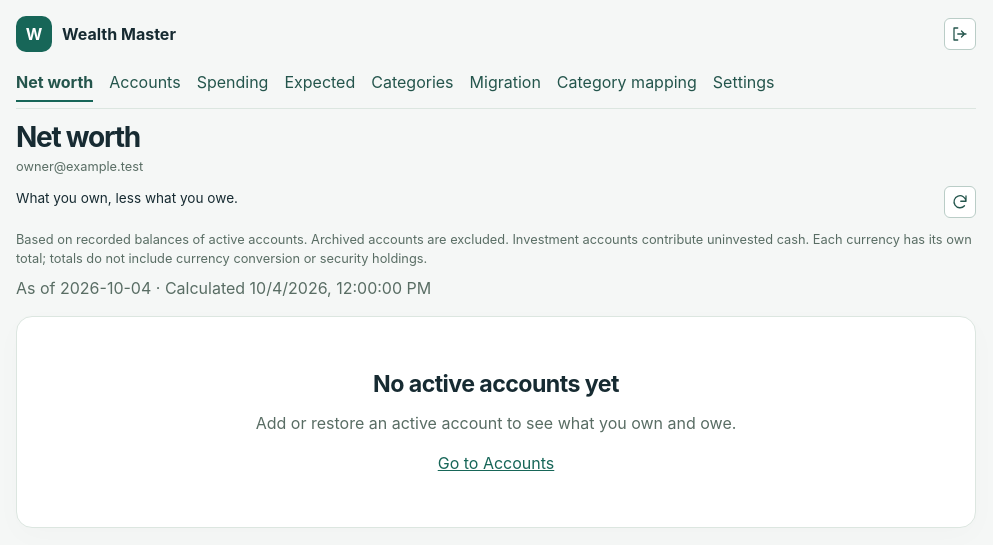
Test: defaults a restored session to net worth and reloads on re-entry
Expected: the heading "Net worth" is shown, [16, 120, 140, 154]
Expected: the heading "No active accounts yet" is shown, [373, 370, 619, 398]
Click the link "Accounts" at [145, 82], box [109, 72, 181, 92]
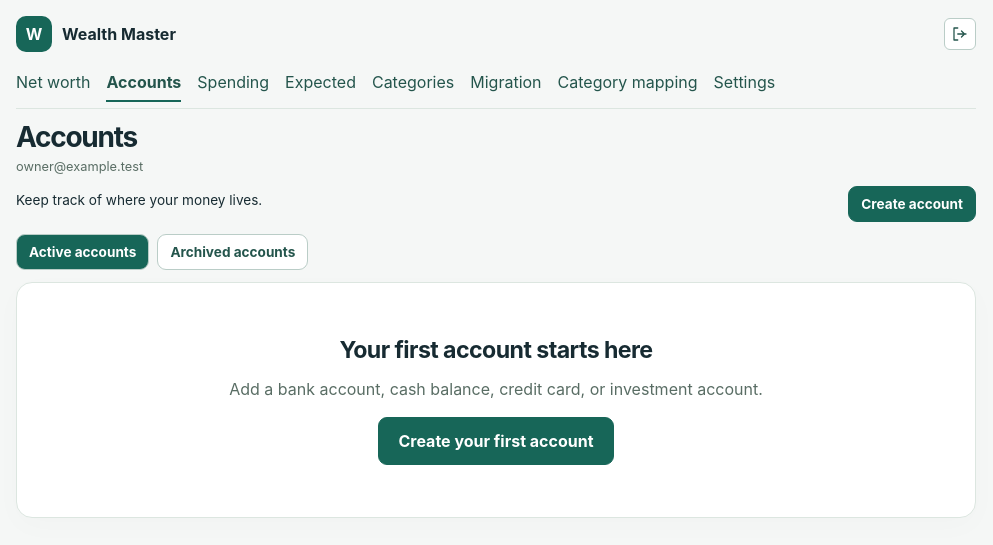
Now the heading "Accounts" is shown, box [16, 120, 137, 154]
Click the link "Net worth" at [53, 82], box [16, 72, 90, 92]
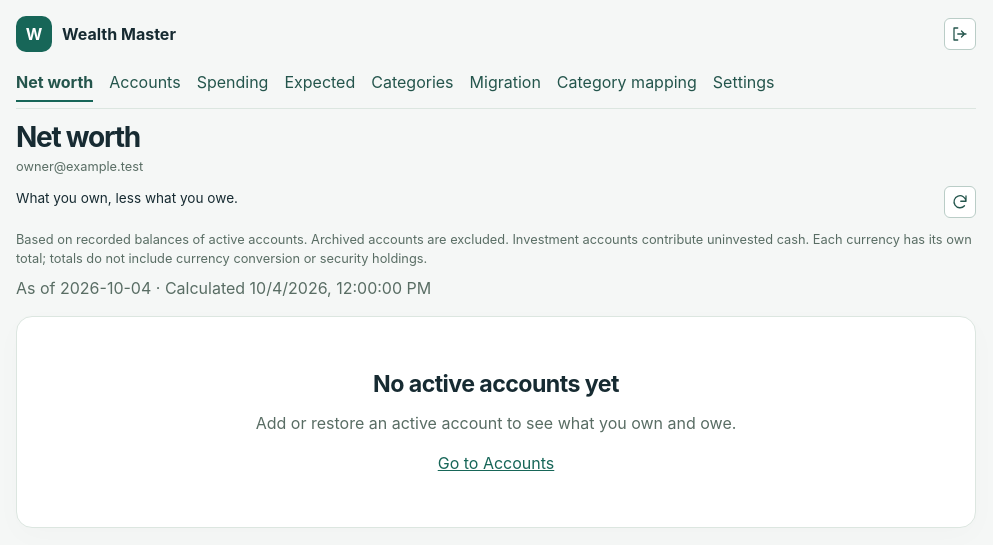
Now the heading "No active accounts yet" is shown, box [373, 370, 619, 398]
